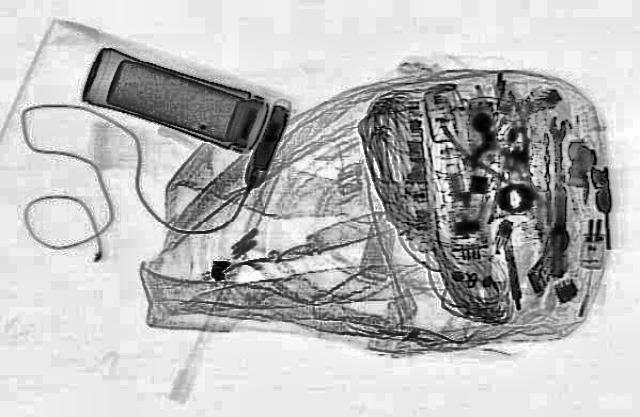Wrench: (544, 115, 570, 251)
